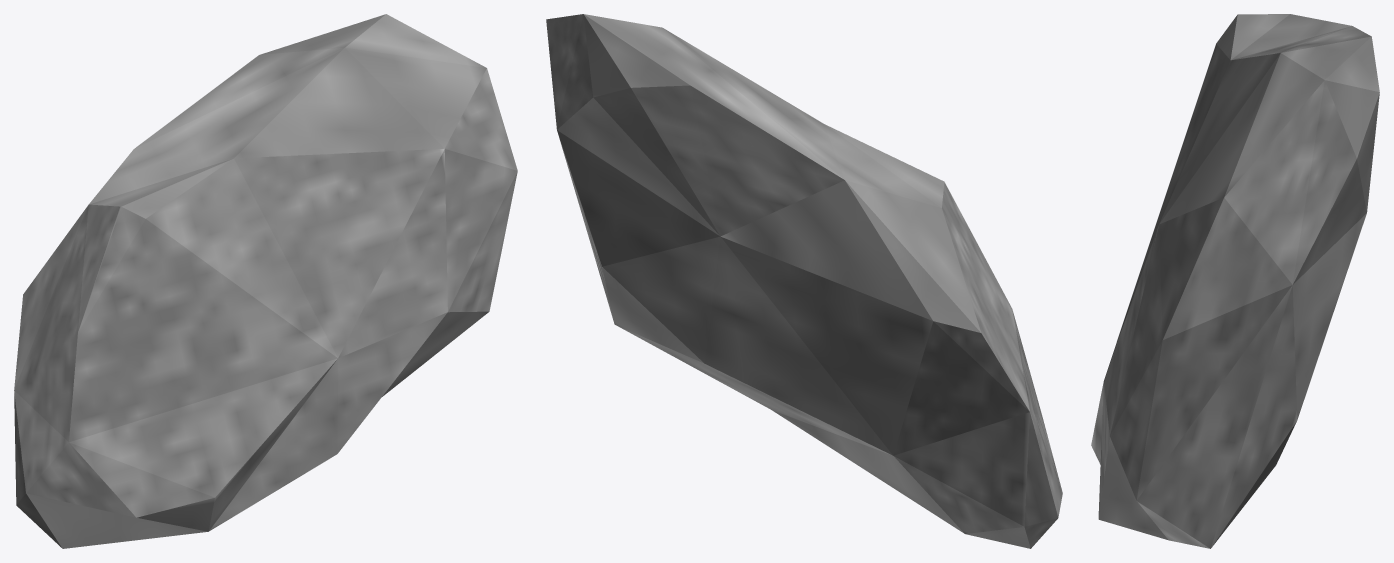
The model's file is Stone.dae.
3 views of the same model, side by side, from view 1: azimuth 30°, elevation 25°; view 2: azimuth 150°, elevation 25°; view 3: azimuth 270°, elevation 25° (orthographic). The views are drawn at different scales.
Visible parts, largest first — view 1: 1; view 2: 1; view 3: 1.
Boxes of the visible parts, x1,y1,x2,y2 form: 1: (14,14,517,548); 1: (546,14,1062,548); 1: (1091,14,1379,548).
Bounding box in the file's own units: 0.6992 × 0.5896 × 0.246.
